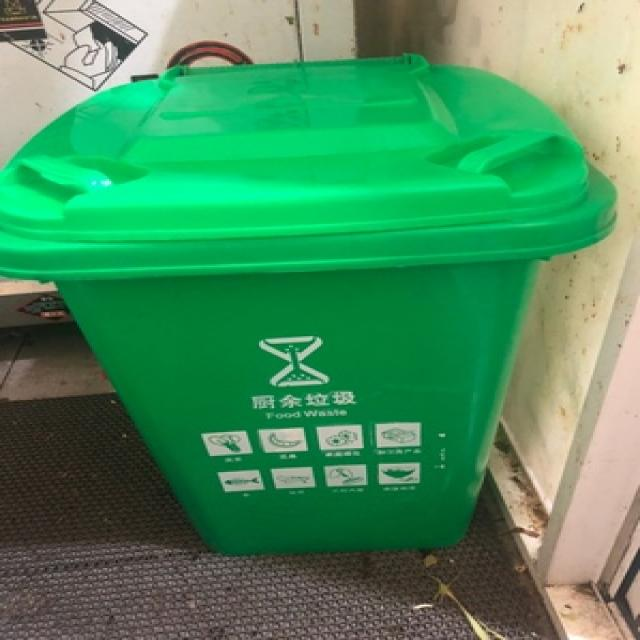ash bin: (4, 50, 614, 555)
